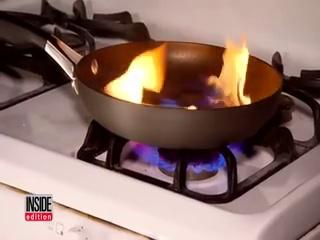Fire: (104, 15, 271, 108)
